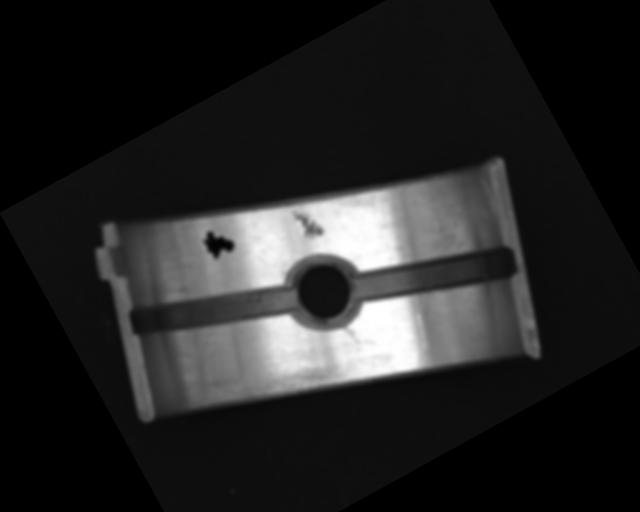blot: (198, 223, 237, 262)
bruise: (289, 202, 326, 244)
gap: (125, 239, 300, 382), (351, 209, 518, 342)
hole: (276, 244, 371, 341)
nick: (395, 312, 445, 371), (340, 321, 361, 348)
scratch: (201, 333, 346, 446)
